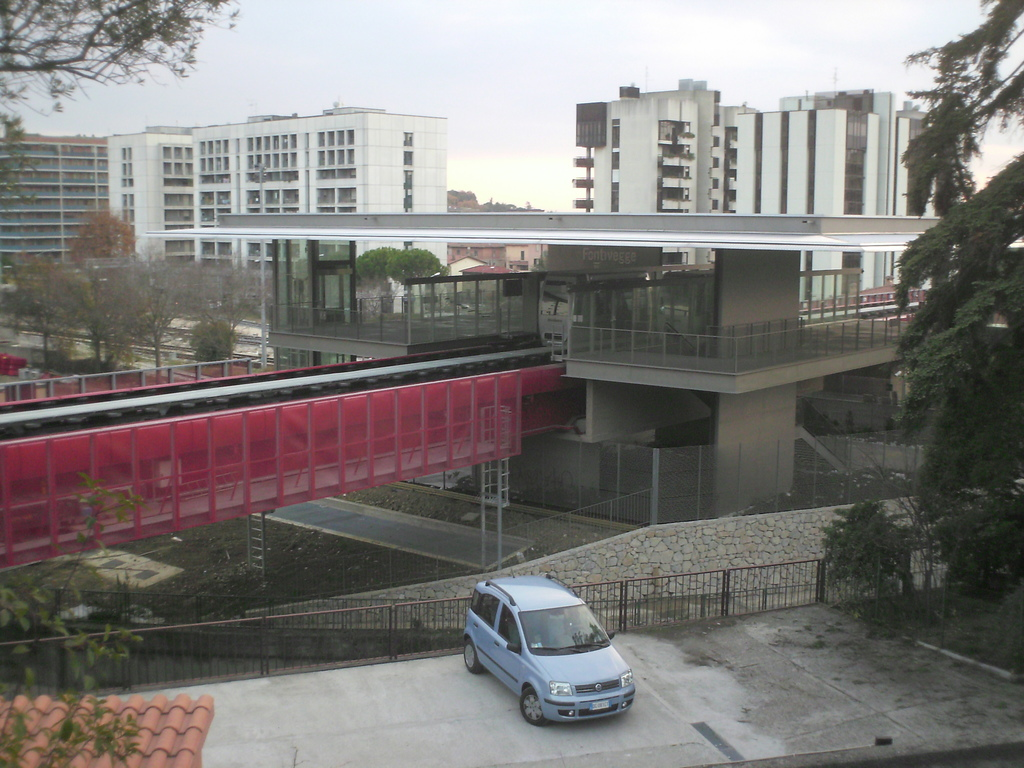Car: (461, 572, 637, 726)
